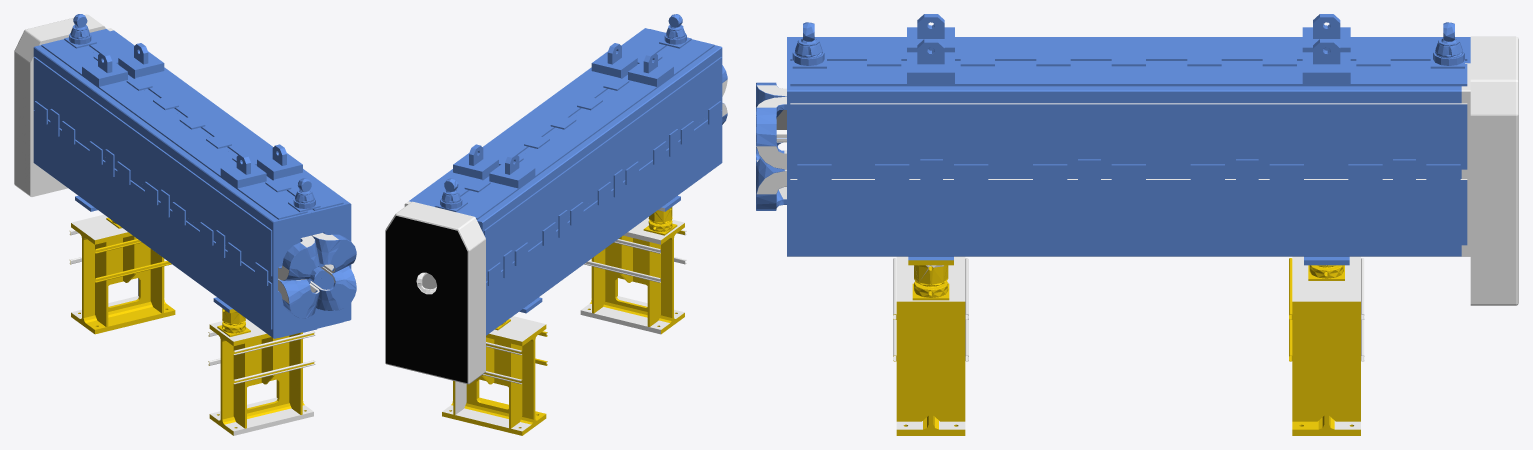
Rendered from magnet1.dae.
The picture shows the model from 3 angles, left to right: view 1: azimuth 30°, elevation 25°; view 2: azimuth 150°, elevation 25°; view 3: azimuth 270°, elevation 25°; orthographic projection. The views are drawn at different scales.
Visible parts, largest first — view 1: skp8B9E (×31); view 2: skp8B9E (×26); view 3: skp8B9E (×35).
Boxes of the visible parts, x1,y1,x2,y2 form: skp8B9E (×31): [14, 14, 356, 435]; skp8B9E (×26): [385, 28, 722, 435]; skp8B9E (×35): [756, 36, 1518, 435].
Size of the model in its own units: 24.02 by 131 by 73.16.
